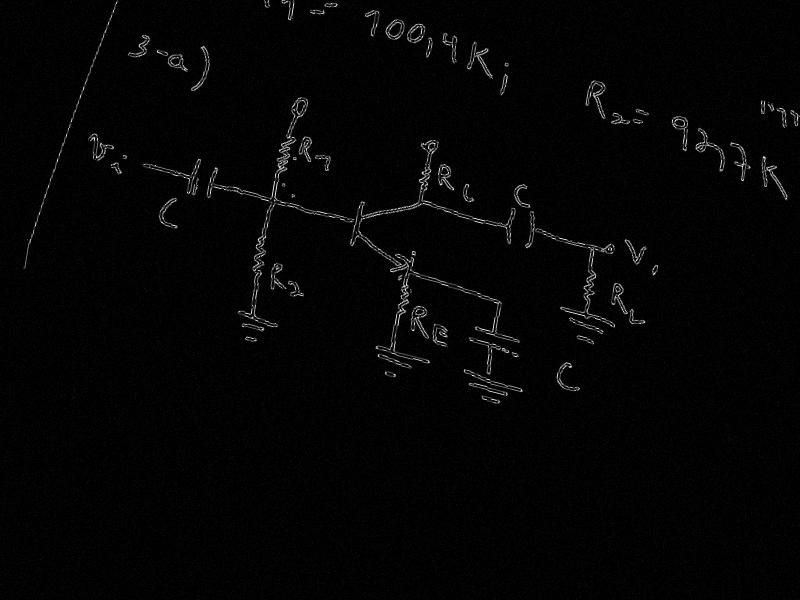-: (307, 5, 326, 18), (634, 105, 651, 117), (324, 0, 339, 11), (156, 48, 169, 58), (631, 117, 645, 126)
0: (405, 18, 428, 47), (383, 15, 406, 43)
1: (360, 5, 383, 40), (311, 149, 334, 176), (277, 0, 299, 23), (773, 105, 791, 130)
2: (284, 277, 308, 302), (609, 110, 633, 130)
3: (690, 124, 731, 174), (124, 28, 151, 64)
4: (437, 30, 462, 66)
7: (724, 140, 755, 183)
9: (666, 113, 693, 154)
V: (81, 130, 117, 167), (619, 236, 648, 267)
k: (755, 155, 793, 202), (465, 39, 499, 80)
